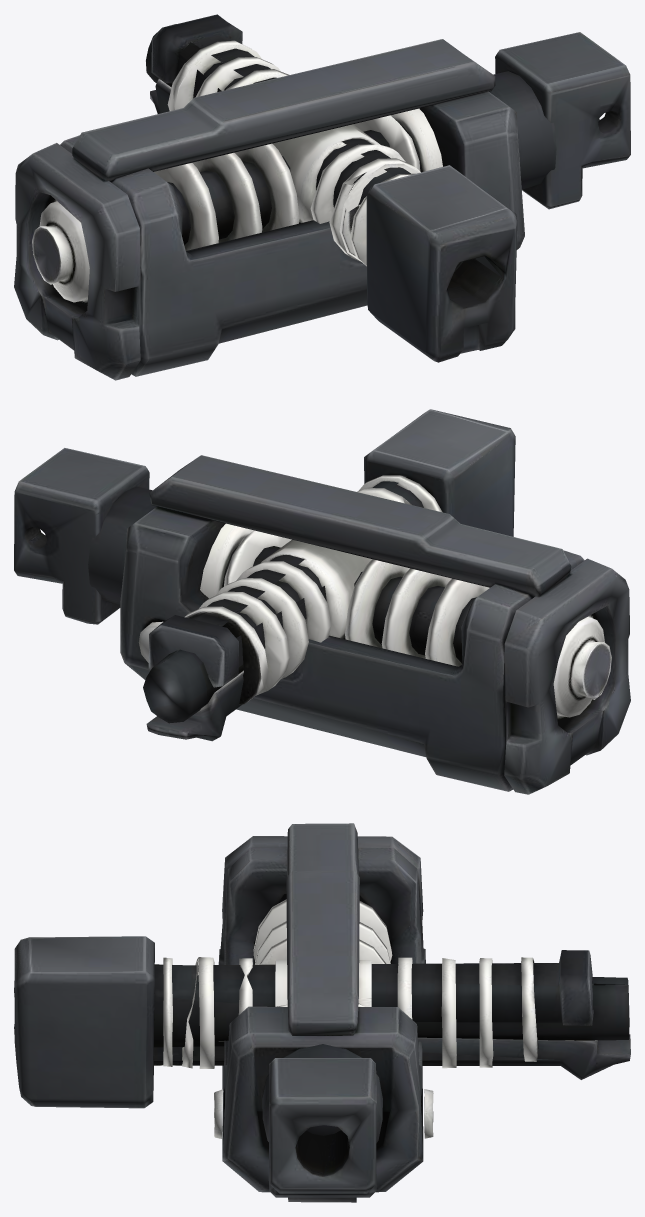
Rendered from weapon-parts.glb.
3 views of the same model, one above another, from view 1: azimuth 30°, elevation 25°; view 2: azimuth 150°, elevation 25°; view 3: azimuth 270°, elevation 25° (orthographic).
Visible parts, largest first — view 1: weapon-parts; view 2: weapon-parts; view 3: weapon-parts.
Boxes of the visible parts, box(x1,y1,x2,y2) form: weapon-parts: box(14, 14, 630, 380); weapon-parts: box(14, 409, 630, 794); weapon-parts: box(14, 823, 630, 1202).
Bounding box in the file's own units: 0.3 × 0.1081 × 0.288.
1 material, 1 textured.
